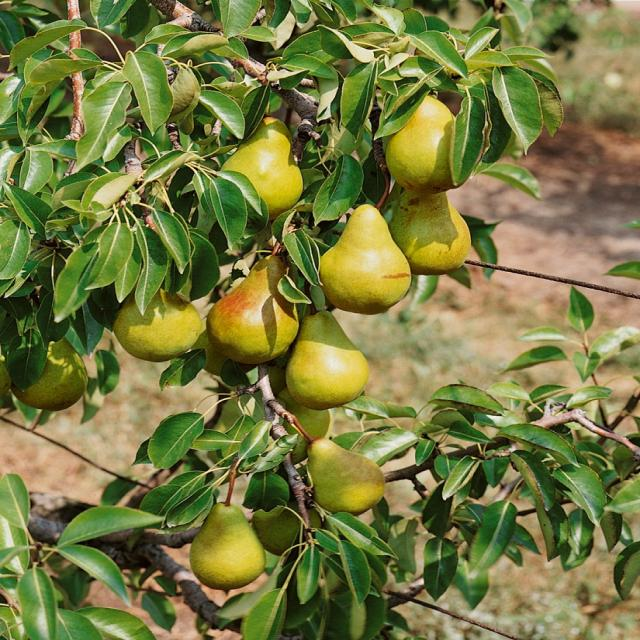paer: (60, 247, 217, 384), (36, 324, 142, 512), (168, 501, 316, 619), (393, 40, 484, 207), (207, 117, 331, 230), (204, 260, 328, 371), (287, 314, 416, 412), (316, 207, 434, 314), (298, 431, 434, 523)
